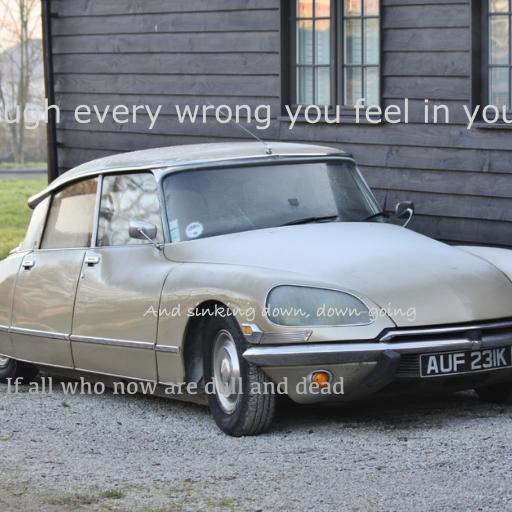Bradley Hand: (143, 302, 417, 321)
Kefa: (5, 377, 345, 395)
Verdana: (0, 98, 512, 130)
